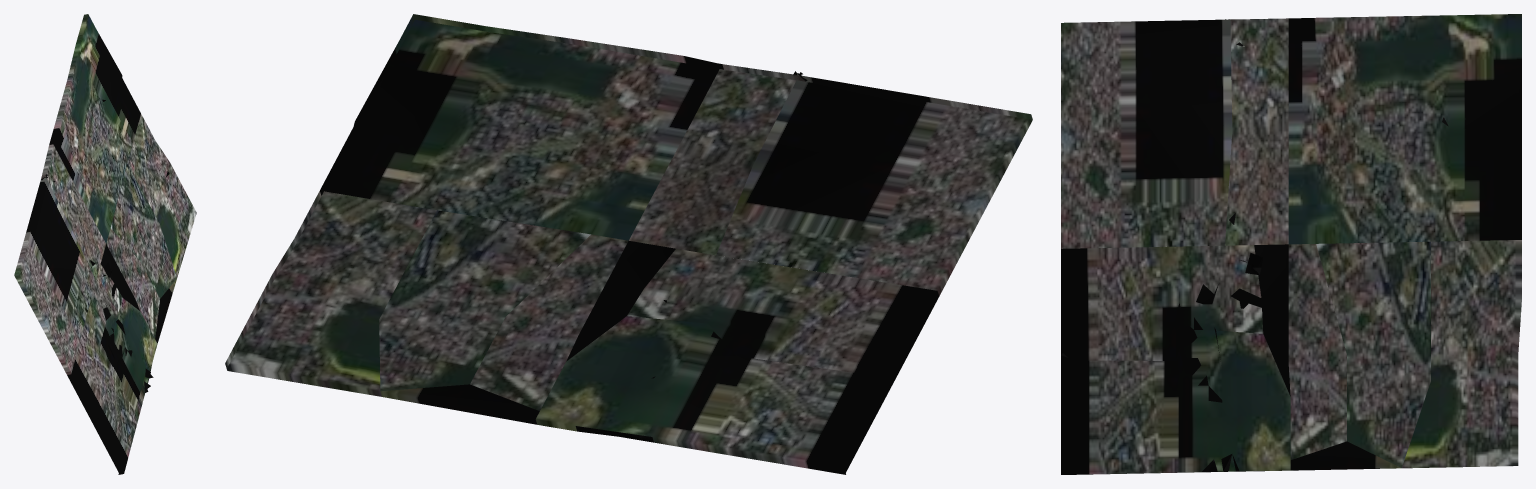
The picture shows the model from 3 angles, left to right: view 1: azimuth 30°, elevation 25°; view 2: azimuth 150°, elevation 25°; view 3: azimuth 270°, elevation 25°; orthographic projection. The views are drawn at different scales.
Parts seen in each view (by area): view 1: node_30436272704372_mesh0; view 2: node_30436272704372_mesh0; view 3: node_30436272704372_mesh0.
Part boxes in pixels (box(x1,y1,x2,y2)): node_30436272704372_mesh0: box(14, 14, 196, 474); node_30436272704372_mesh0: box(225, 14, 1032, 474); node_30436272704372_mesh0: box(1061, 14, 1521, 474).
Bounding box in the file's own units: 2326 × 2328 × 1780.
Materials: 1 (1 with a texture image).
